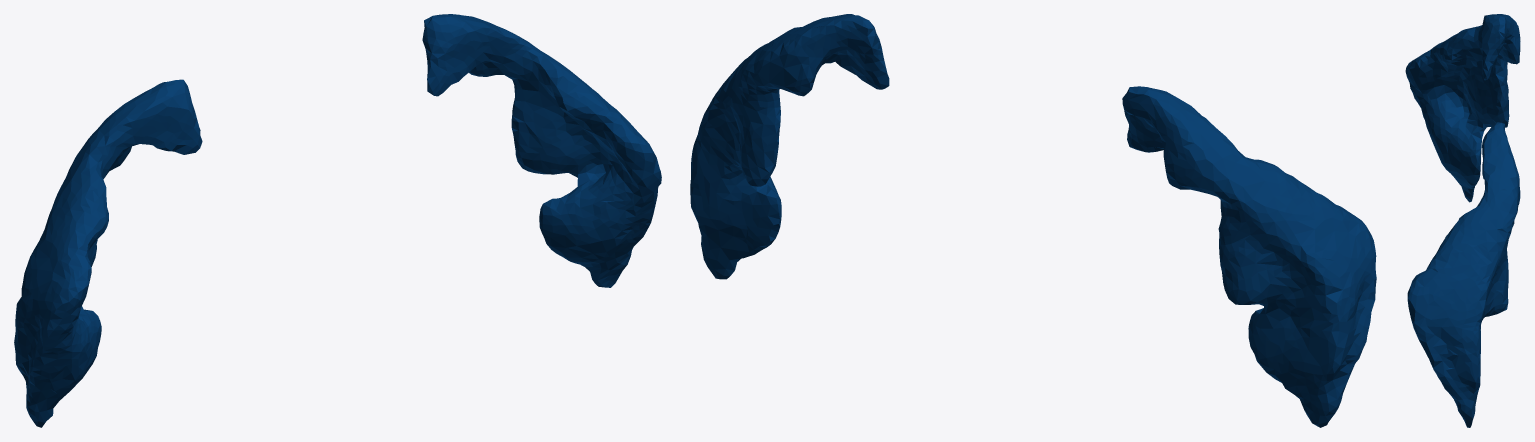
Rendered from 158-V4D-visual area 4, dorsal part-('0.0000', '0.2667', '0.4980').obj.
3 views of the same model, side by side, from view 1: azimuth 30°, elevation 25°; view 2: azimuth 150°, elevation 25°; view 3: azimuth 270°, elevation 25° (orthographic). The views are drawn at different scales.
Bounding box in the file's own units: 353 × 162 × 69.25.
